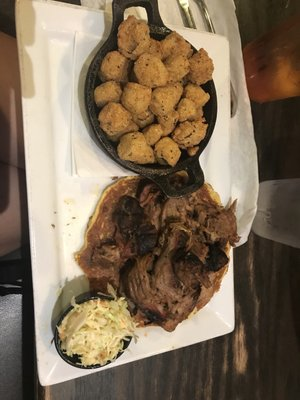sushi: (79, 1, 221, 198)
